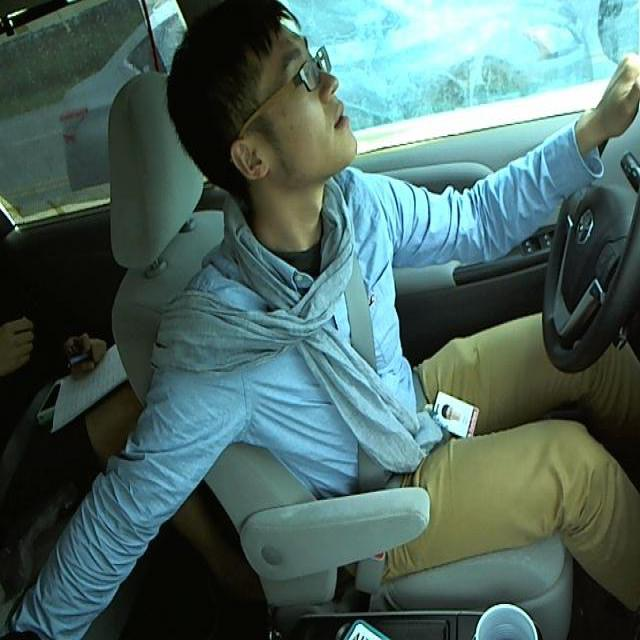seatbelt: (331, 272, 437, 543)
